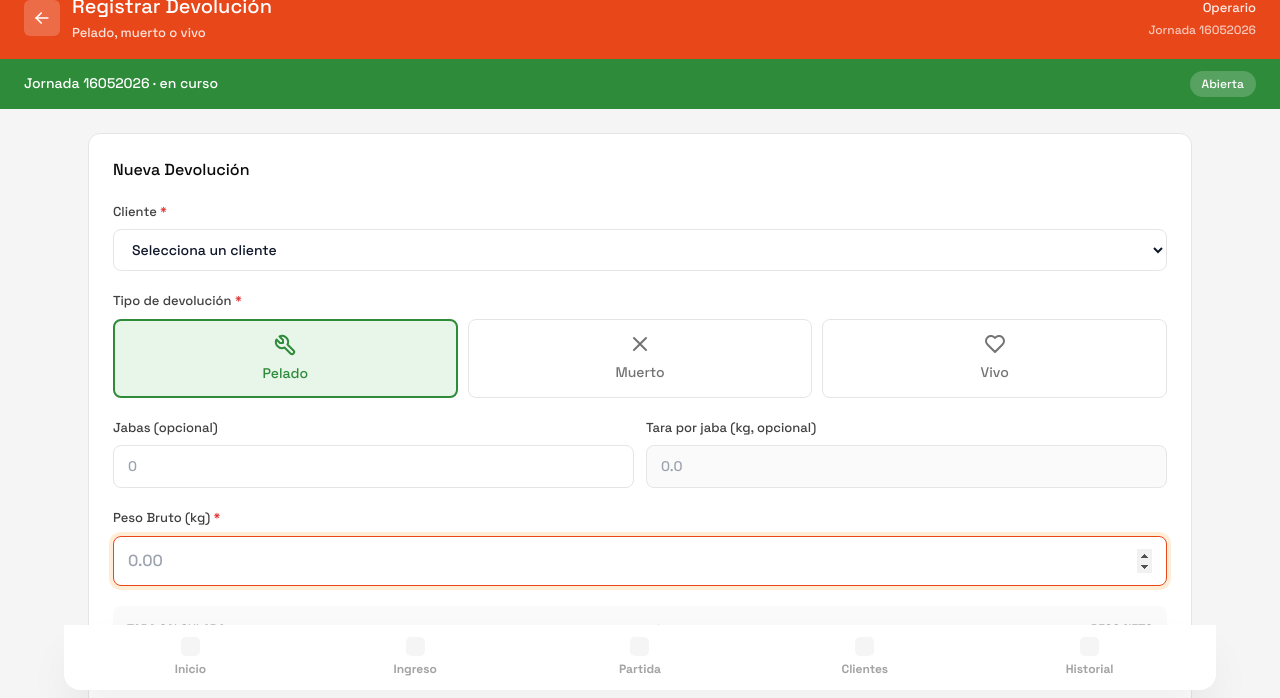
Test: RegistrarDevolucion › registra una devolucion y limpia el formulario
The width and height of the screenshot is (1280, 698).
Check: the heading "Nueva Devolución" is shown, box [113,158,250,180]
Select "Mercado Central" in the dropdown labelled "Cliente *" at [640, 250], box [113,229,1167,271]
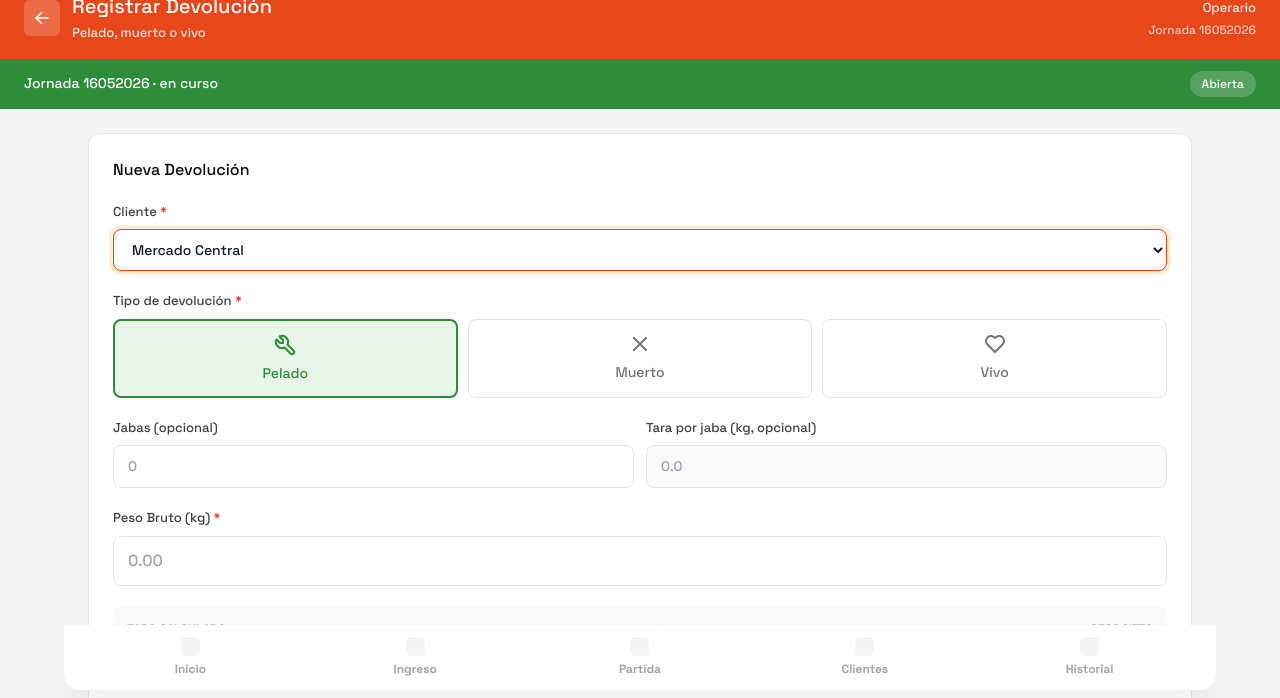
Click the button "Vivo" at [995, 358], box [822,318,1167,398]
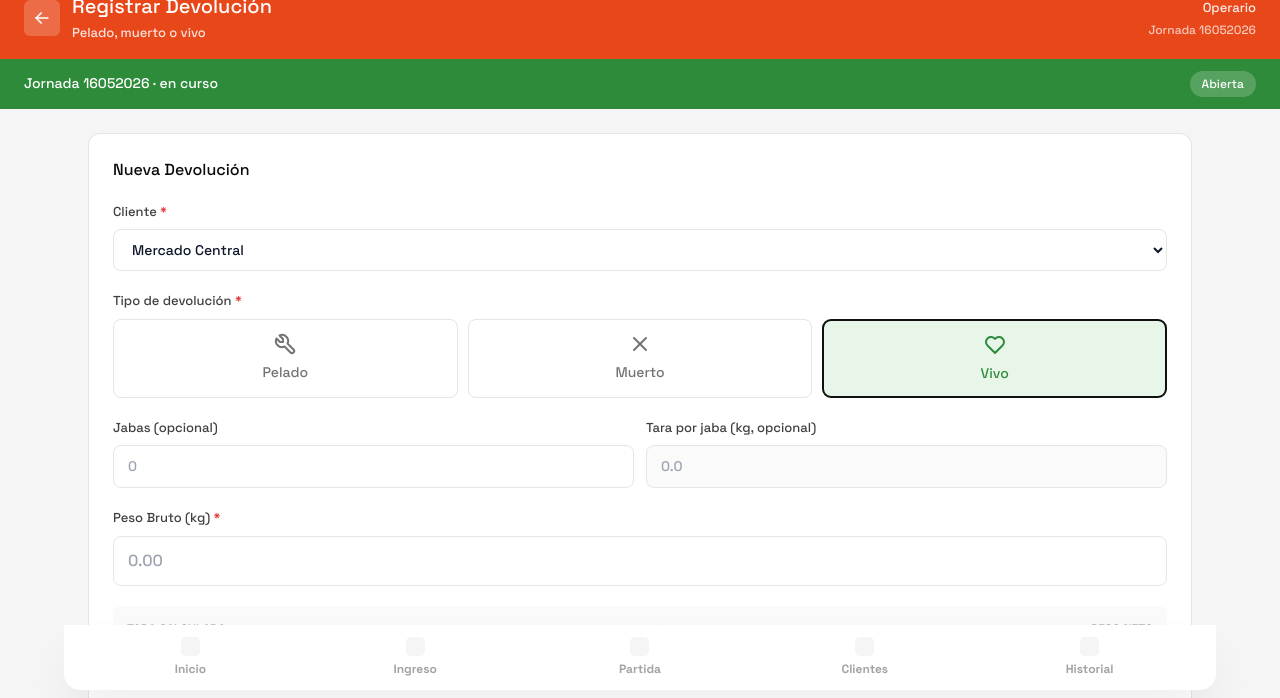
Type "2" into the number field labelled "Jabas (opcional)" at [374, 466], box [113,445,634,488]
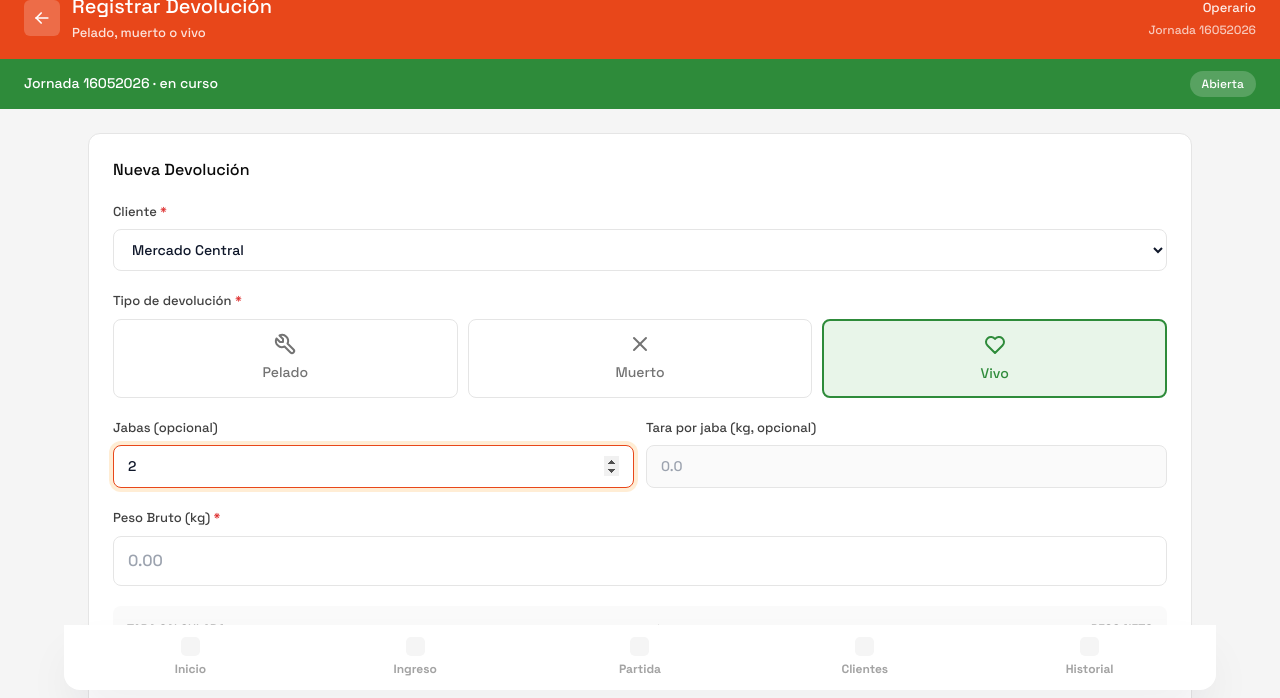
Type "5.8" into the number field labelled "Tara por jaba (kg, opcional)" at [906, 466], box [646,445,1167,488]
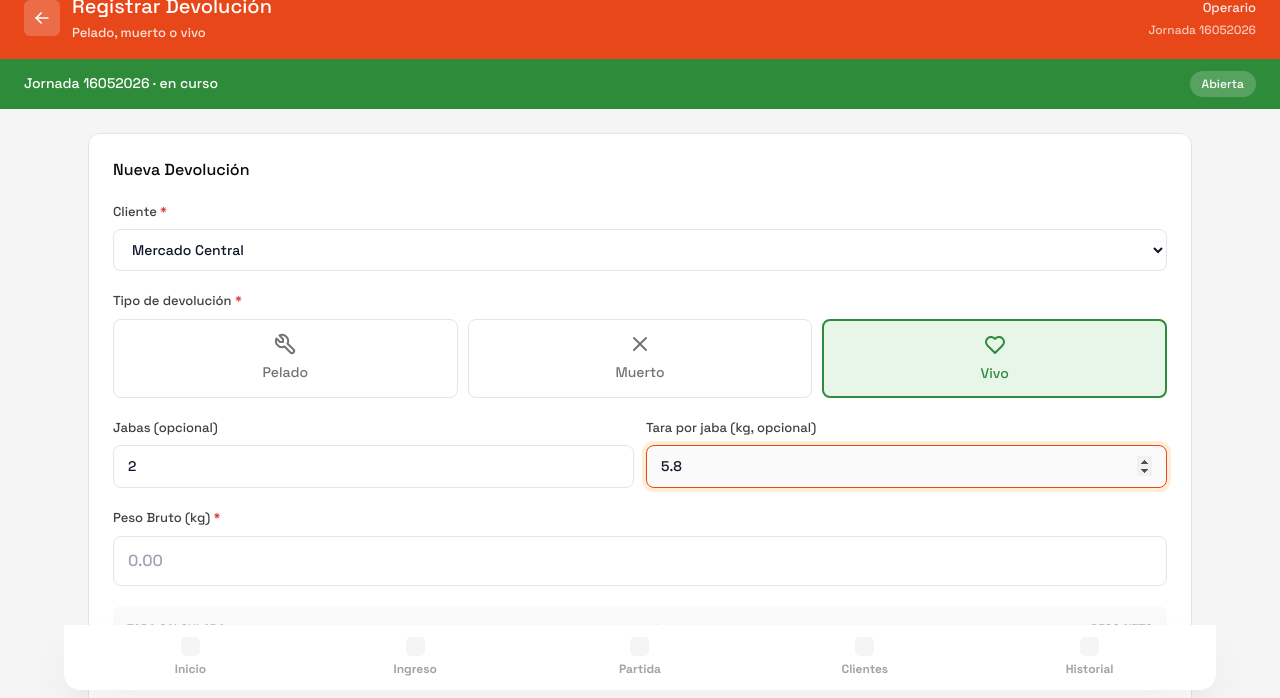
Type "15.8" into the number field labelled "Peso Bruto (kg) *" at [640, 560], box [113,536,1167,586]
(page scrolled)
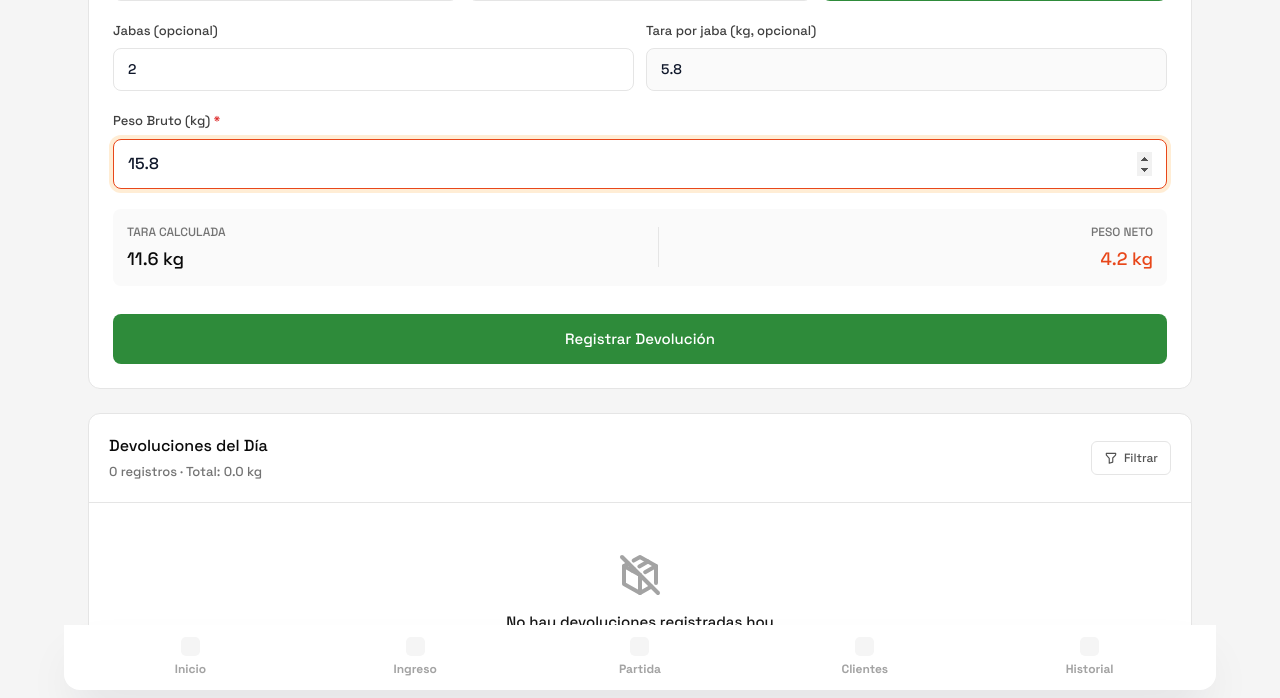
Click the button "Registrar Devolución" at [640, 339], box [113,314,1167,364]
(page scrolled)
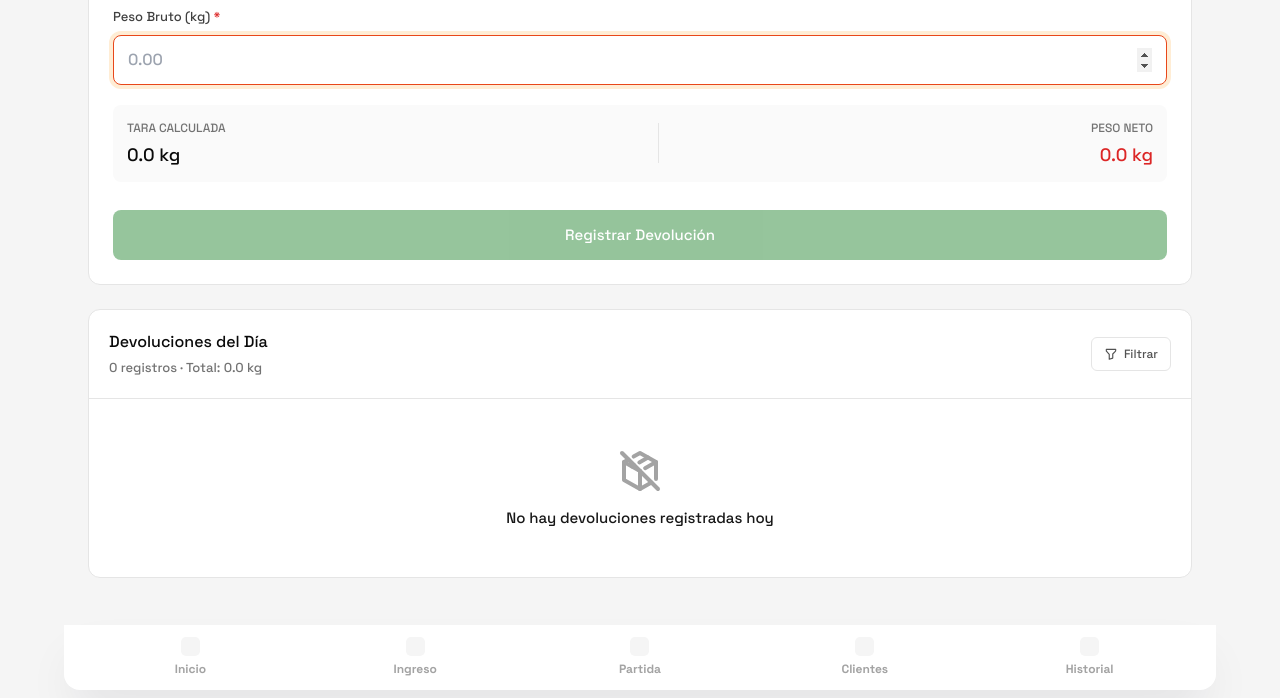
Check: the number field labelled "Peso Bruto (kg) *" is not empty, box [113,34,1167,84]
